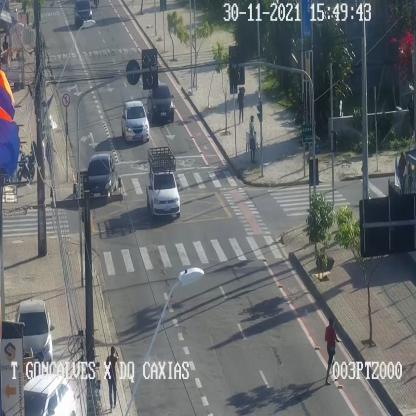car: (16, 300, 52, 372), (23, 374, 76, 415), (146, 171, 180, 216), (87, 153, 116, 197), (121, 100, 149, 140), (147, 83, 173, 122), (72, 0, 95, 26)
motorbike: (17, 151, 37, 186)
person: (324, 318, 340, 385), (105, 346, 119, 412), (398, 152, 406, 194), (249, 115, 256, 162), (46, 136, 54, 177), (237, 87, 244, 123), (407, 161, 412, 194)
